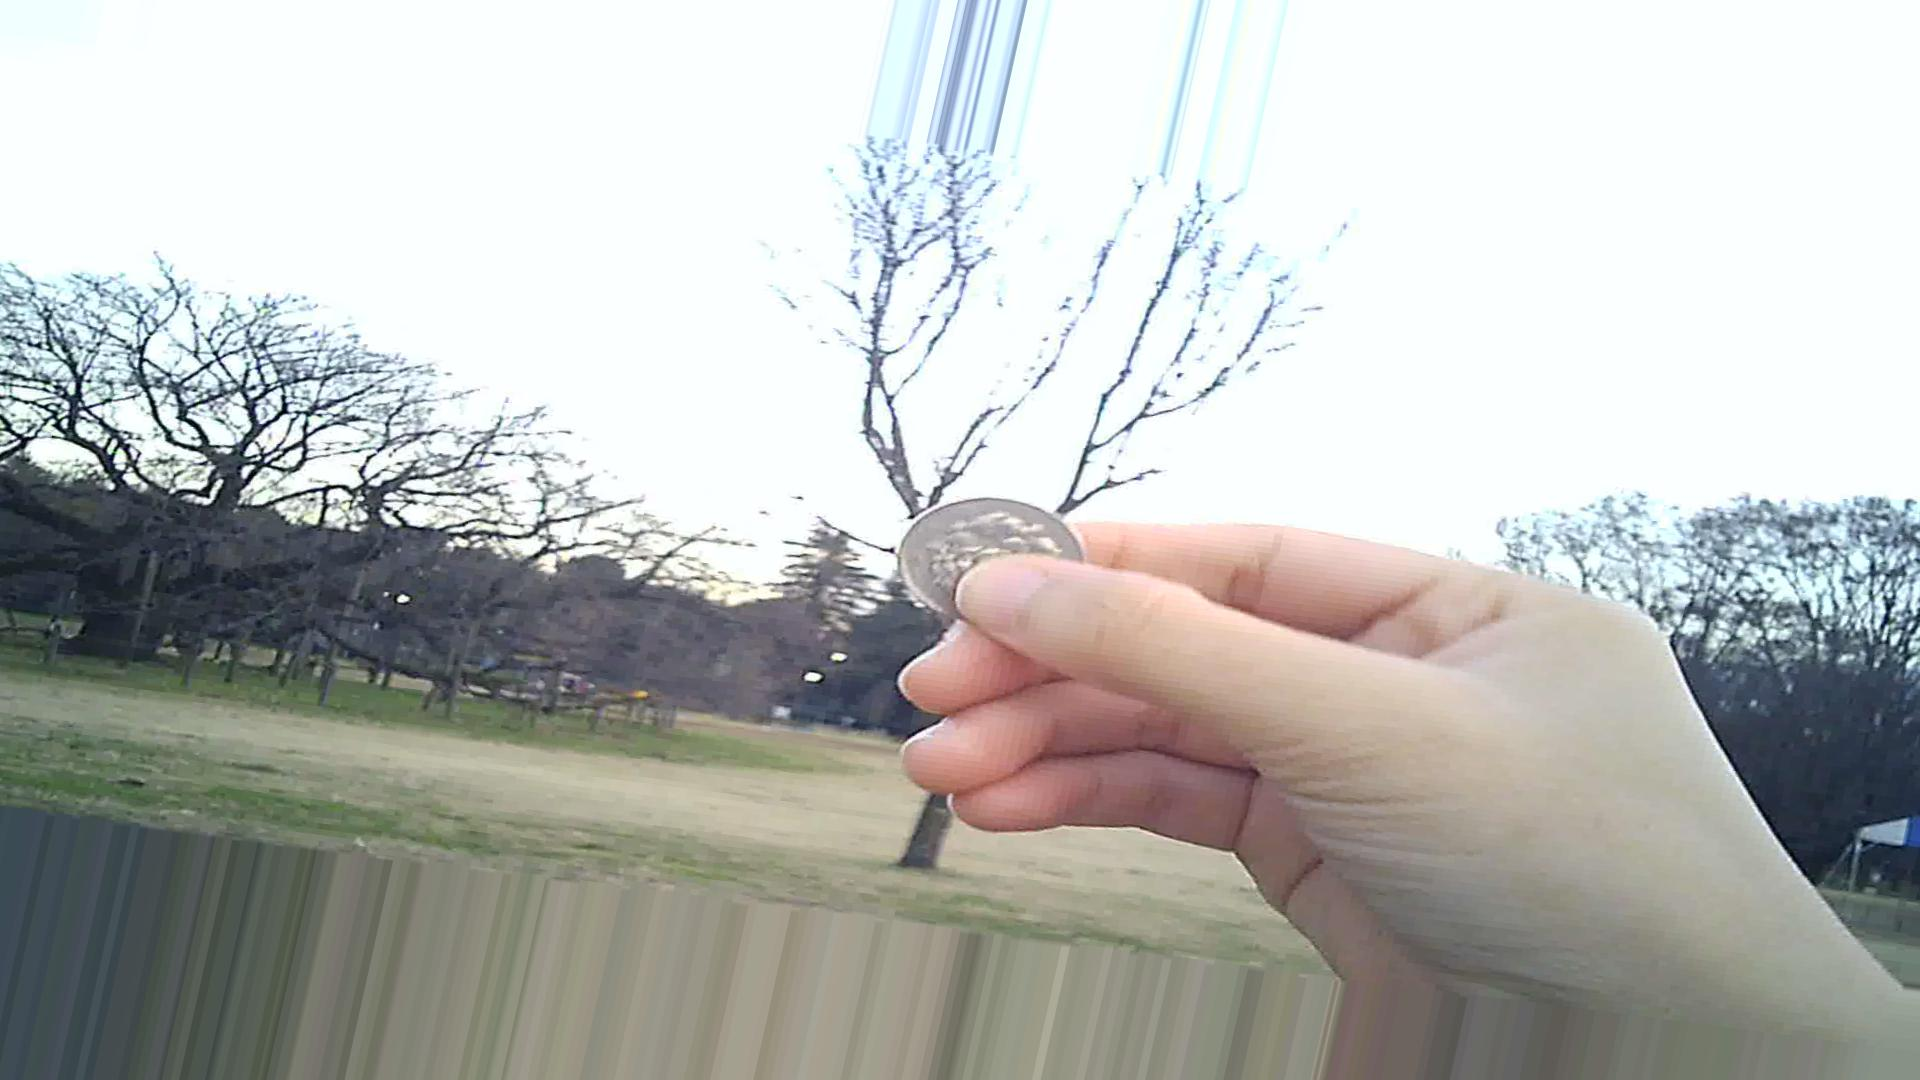100 Yen: (884, 492, 1101, 633)
